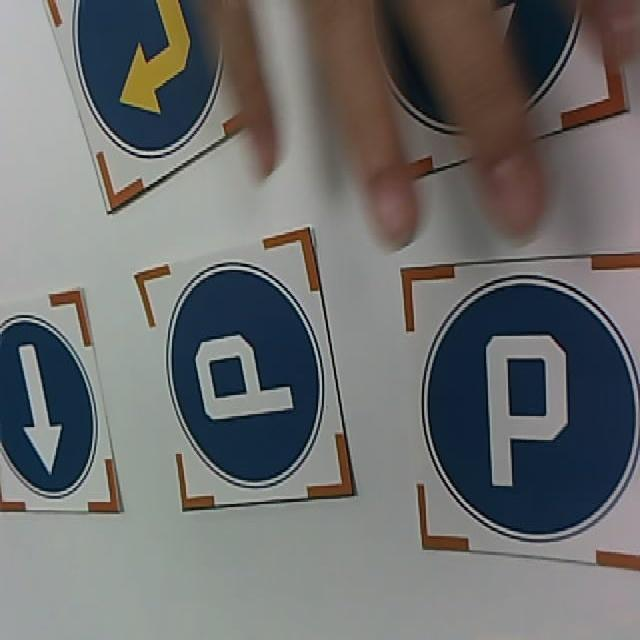parking: (420, 274, 640, 545), (165, 260, 326, 485)
straight: (0, 314, 101, 502)
turn: (69, 0, 223, 160)
